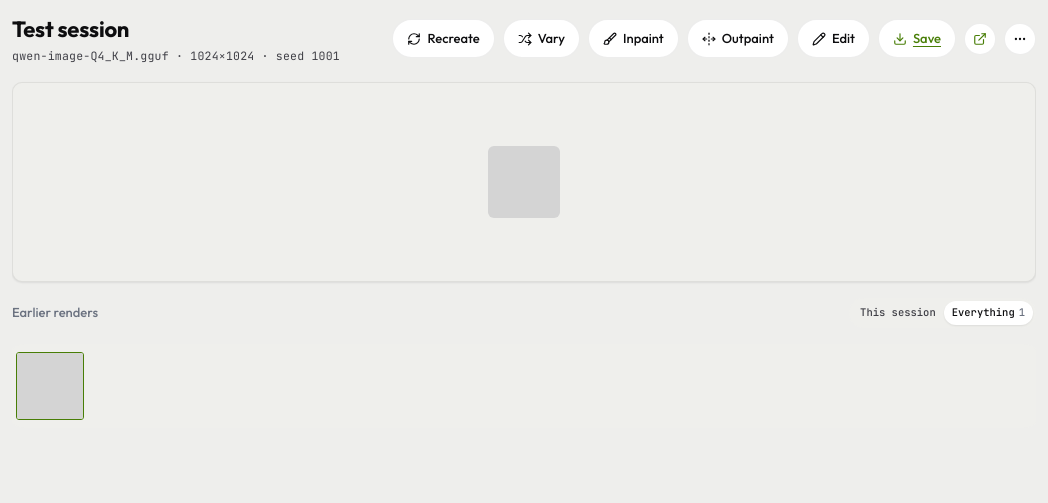
Scenario: Stage › with a sidecar and a live backend, Recreate queues and tracks the action
This screenshot has width=1048, height=503.
Click the button "Recreate" at [444, 39], box left=392, top=19, right=495, bottom=58
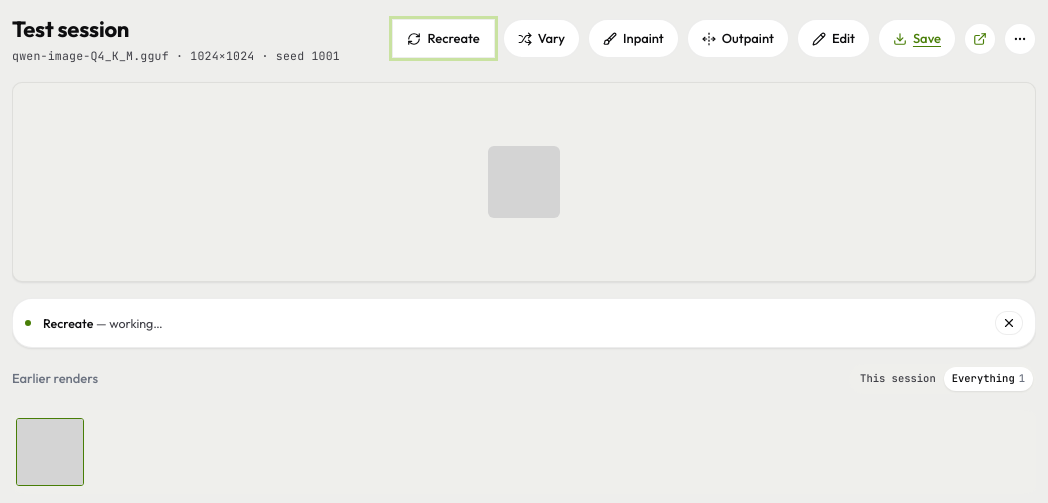
expect the text "Recreate — working…" is shown: met, box left=43, top=315, right=163, bottom=331
